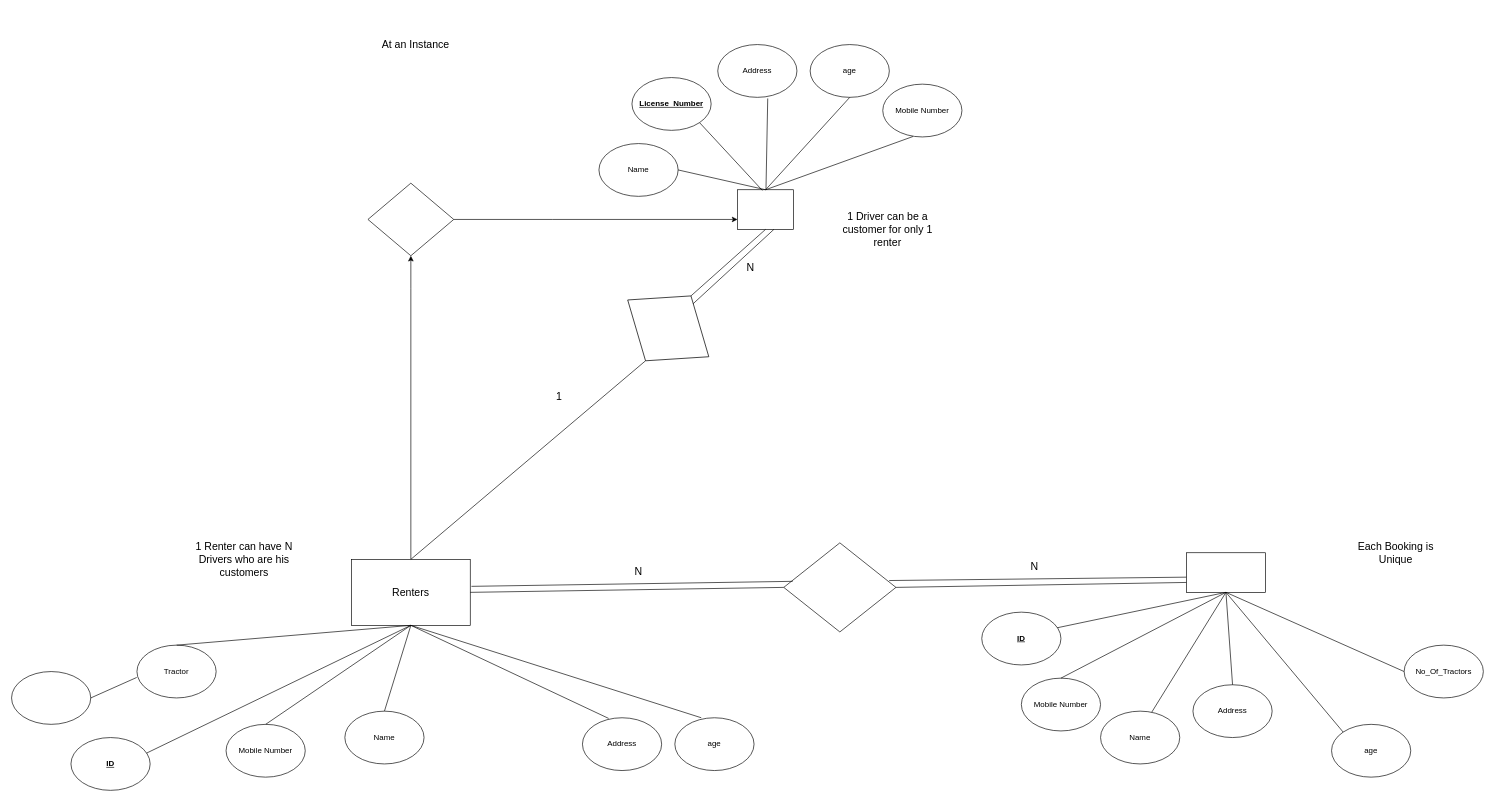
The diagram is 1495 pixels wide and 802 high, and some of its shapes have lost their labels. Each missing label, with the centre of its shape:
"Contact" goes at point (839, 587).
"Customer" goes at point (668, 328).
"Drivers" goes at point (765, 209).
"Farmers" goes at point (1226, 572).
"Is Driver ?" goes at point (410, 219).
"Plate_No" goes at point (51, 697).
